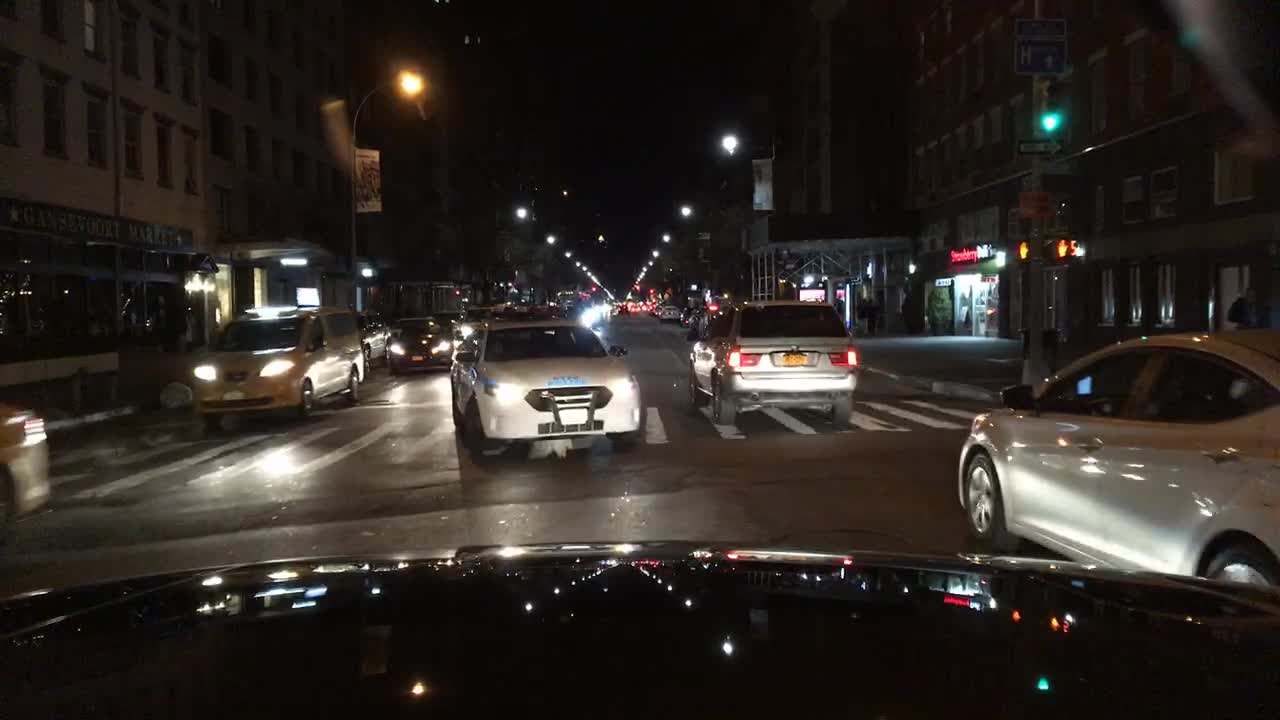car: (957, 322, 1280, 588), (450, 313, 644, 460), (682, 300, 859, 433), (191, 311, 366, 429), (0, 399, 56, 540), (384, 313, 457, 368), (358, 304, 392, 356), (454, 304, 490, 336), (682, 305, 705, 333), (578, 297, 596, 325), (432, 310, 460, 328), (530, 294, 555, 311), (558, 297, 578, 316), (659, 304, 684, 319), (595, 299, 610, 322), (616, 297, 632, 313), (644, 296, 659, 313), (633, 297, 644, 316)
person: (1227, 282, 1270, 328)
traffic light: (1052, 236, 1072, 262), (1037, 110, 1060, 132), (1016, 239, 1031, 264), (587, 282, 598, 294), (647, 282, 656, 296)
traffic sign: (1016, 41, 1069, 78), (1017, 16, 1069, 38), (1016, 185, 1052, 216), (1014, 135, 1065, 155)
